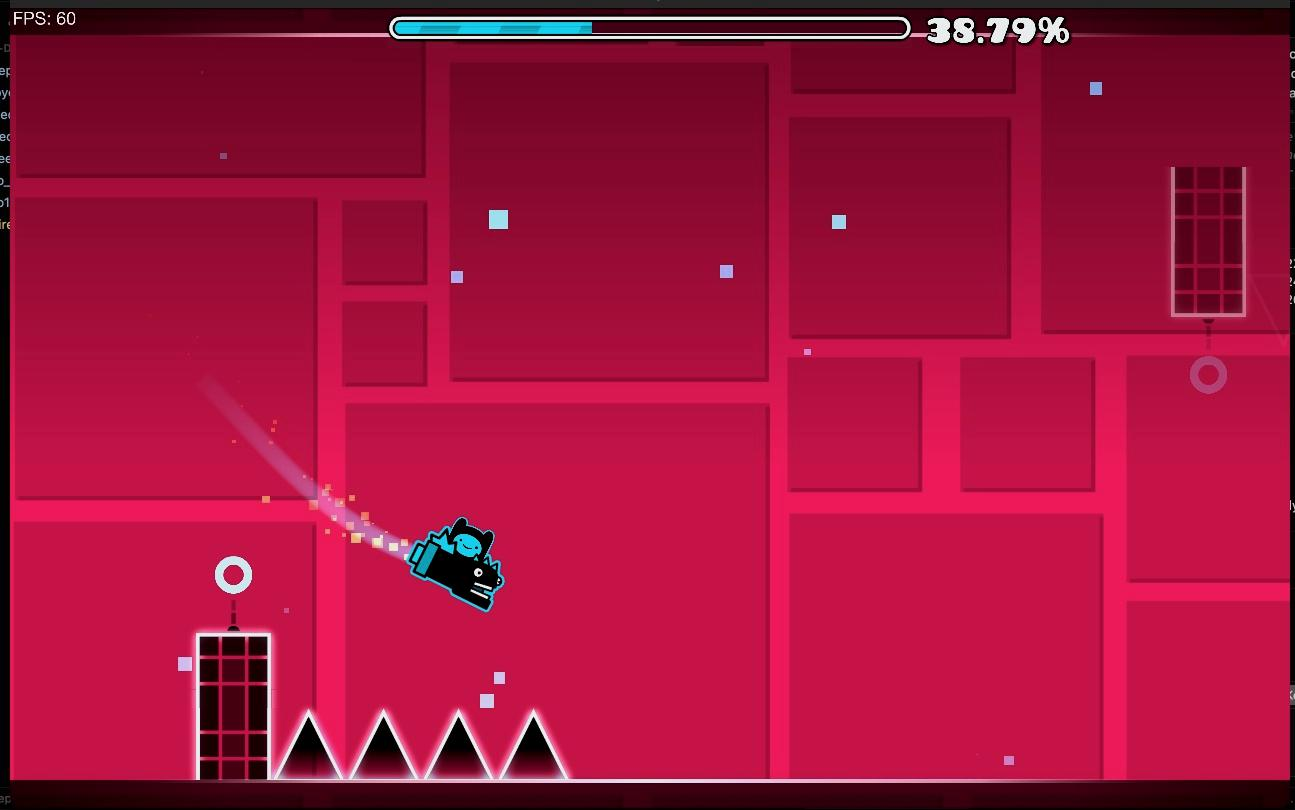block: (1173, 167, 1244, 316), (199, 634, 267, 779)
spaceship: (408, 518, 504, 611)
spike: (349, 711, 567, 778), (277, 712, 341, 778)
